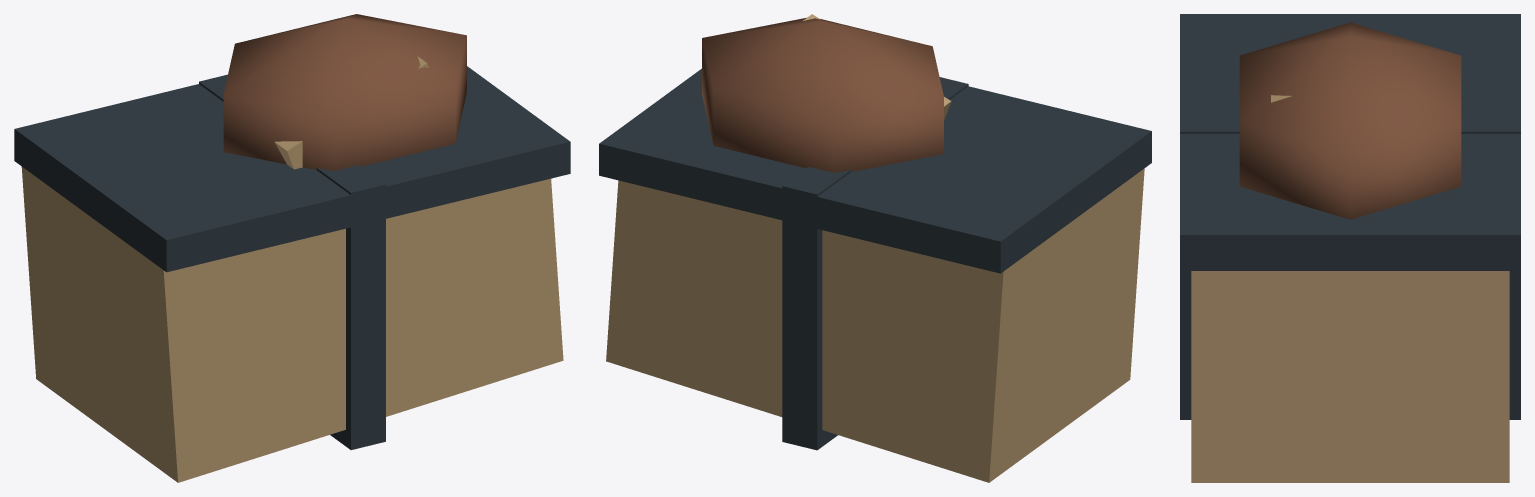
File: fixed-ration-lod2.glb
The picture shows the model from 3 angles, left to right: view 1: azimuth 30°, elevation 25°; view 2: azimuth 150°, elevation 25°; view 3: azimuth 270°, elevation 25°; orthographic projection. The views are drawn at different scales.
Parts seen in each view (by area): view 1: piece_whole; view 2: piece_whole; view 3: piece_whole.
Boxes of the visible parts, left/top/right/bottom form: piece_whole: left=14, top=14, right=570, bottom=482; piece_whole: left=599, top=14, right=1151, bottom=482; piece_whole: left=1180, top=14, right=1520, bottom=482.
Size of what is drawn, in the model's own units: 0.46 by 0.39 by 0.3.
